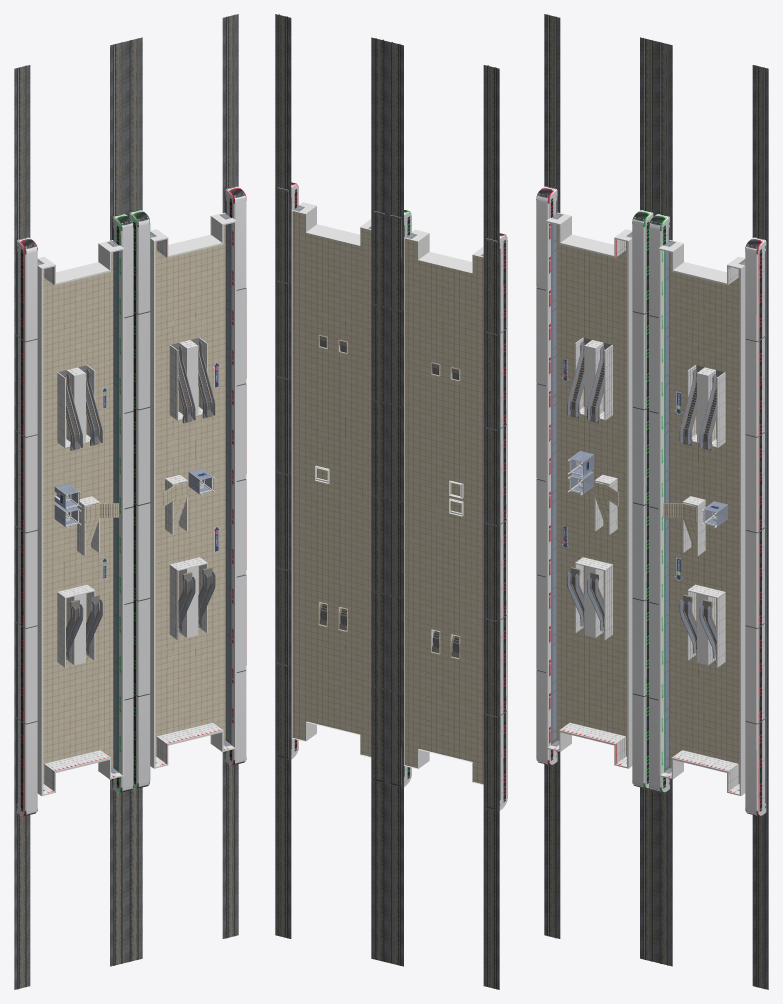
File: 0_B3_SWSta_Pack.gltf
The picture shows the model from 3 angles, left to right: view 1: azimuth 30°, elevation 25°; view 2: azimuth 150°, elevation 25°; view 3: azimuth 330°, elevation 25°; orthographic projection.
Visible parts, largest first — view 1: object 8, SM_B3_SWSta_escalatorD_Ins_02, SM_B3_SWSta_escalatorD_Ins_03, SM_B3_SWSta_escalatorD_Ins_00, SM_B3_SWSta_escalatorD_Ins_01, SM_B3_SWSta_escalatorD_Ins_06, SM_B3_SWSta_escalatorD_Ins_07, SM_B3_SWSta_escalatorD_Ins_04; view 2: object 8; view 3: object 8, SM_B3_SWSta_escalatorD_Ins_00, SM_B3_SWSta_escalatorD_Ins_01, SM_B3_SWSta_escalatorD_Ins_03, SM_B3_SWSta_escalatorD_Ins_02, SM_B3_SWSta_escalatorD_Ins_04, SM_B3_SWSta_escalatorD_Ins_07, SM_B3_SWSta_escalatorD_Ins_06.
Boxes of the visible parts, x1,y1,x2,y2 form: object 8: [14, 14, 246, 989]; SM_B3_SWSta_escalatorD_Ins_02: [171, 343, 195, 423]; SM_B3_SWSta_escalatorD_Ins_03: [191, 338, 215, 418]; SM_B3_SWSta_escalatorD_Ins_00: [58, 370, 82, 450]; SM_B3_SWSta_escalatorD_Ins_01: [78, 365, 102, 445]; SM_B3_SWSta_escalatorD_Ins_06: [178, 572, 195, 632]; SM_B3_SWSta_escalatorD_Ins_07: [198, 567, 215, 627]; SM_B3_SWSta_escalatorD_Ins_04: [66, 599, 83, 659]; object 8: [275, 14, 507, 989]; object 8: [536, 14, 768, 989]; SM_B3_SWSta_escalatorD_Ins_00: [567, 338, 591, 418]; SM_B3_SWSta_escalatorD_Ins_01: [587, 343, 611, 423]; SM_B3_SWSta_escalatorD_Ins_03: [699, 370, 724, 450]; SM_B3_SWSta_escalatorD_Ins_02: [679, 365, 704, 445]; SM_B3_SWSta_escalatorD_Ins_04: [567, 567, 584, 627]; SM_B3_SWSta_escalatorD_Ins_07: [699, 599, 716, 659]; SM_B3_SWSta_escalatorD_Ins_06: [679, 594, 696, 654].
Size of the model in its own units: 49.02 by 193 by 7.21.
Materials: 13 (9 with a texture image).
